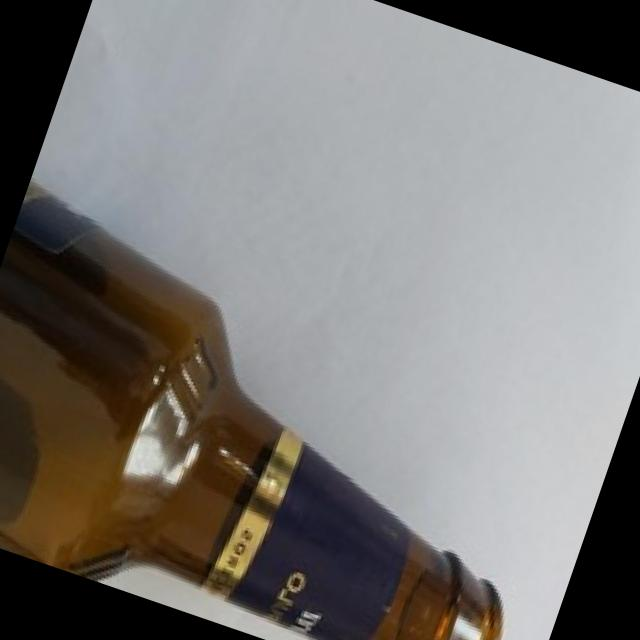BotolKaca: (0, 224, 579, 640)
